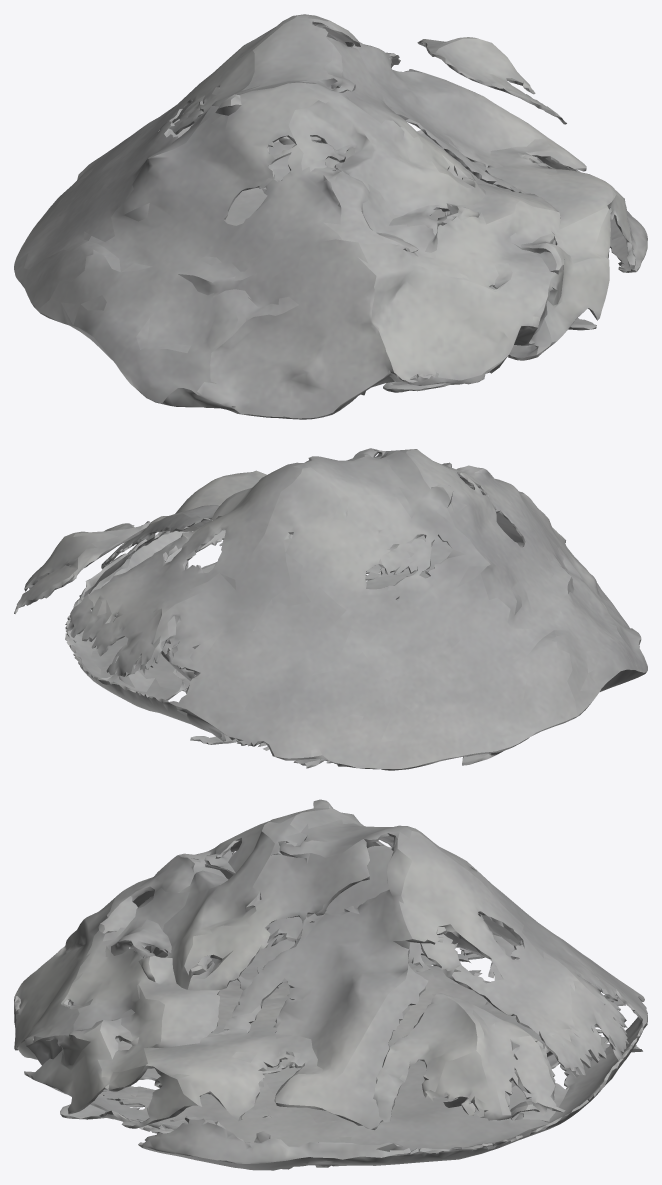
3 renders of one model, top to bottom at view 1: azimuth 30°, elevation 25°; view 2: azimuth 150°, elevation 25°; view 3: azimuth 270°, elevation 25°, orthographic. The views are drawn at different scales.
Parts seen in each view (by area): view 1: world; view 2: world; view 3: world.
Part boxes in pixels (x1,y1,x2,y2): world: (14,14,647,419); world: (14,448,647,770); world: (14,799,647,1170).
Size of the model in its own units: 0.35 by 0.151 by 0.3513.
1 material, 1 textured.
